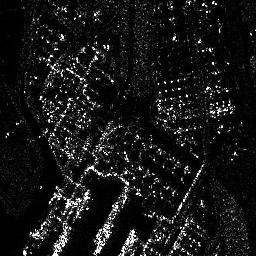ship: (71, 187, 91, 223), (93, 224, 113, 256), (115, 228, 137, 256)
